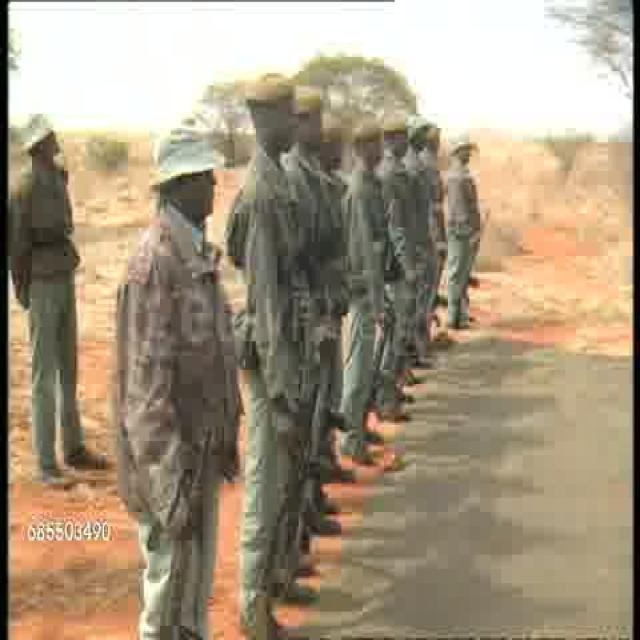poacher: (107, 105, 230, 622), (2, 98, 106, 472), (237, 77, 304, 622), (340, 120, 388, 470), (446, 131, 490, 329), (387, 103, 412, 411), (425, 122, 448, 296)
